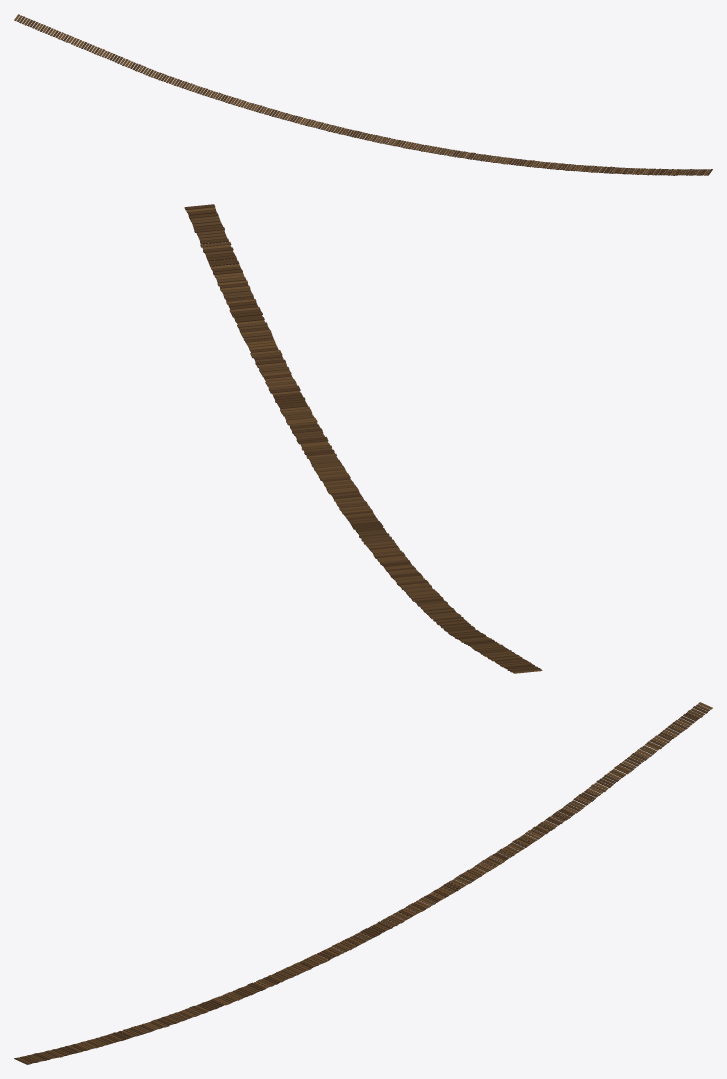
The model's file is SM_Bridge_09_10.fbx.
3 views of the same model, one above another, from view 1: azimuth 30°, elevation 25°; view 2: azimuth 150°, elevation 25°; view 3: azimuth 270°, elevation 25° (orthographic). The views are drawn at different scales.
Parts seen in each view (by area): view 1: SM_Bridge_09_10; view 2: SM_Bridge_09_10; view 3: SM_Bridge_09_10.
Boxes of the visible parts, x1,y1,x2,y2 form: SM_Bridge_09_10: (14,14,712,175); SM_Bridge_09_10: (184,204,542,673); SM_Bridge_09_10: (14,702,712,1064).
Bounding box in the file's own units: 78.97 × 13.96 × 84.19.
